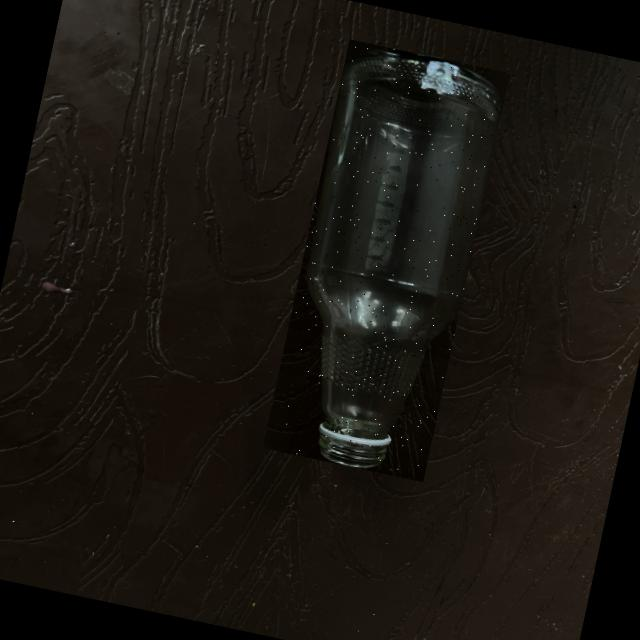Glass_Bottle: (307, 50, 501, 467)
